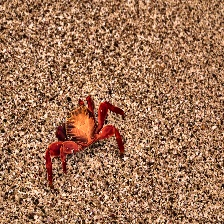crab: (44, 97, 126, 183)
